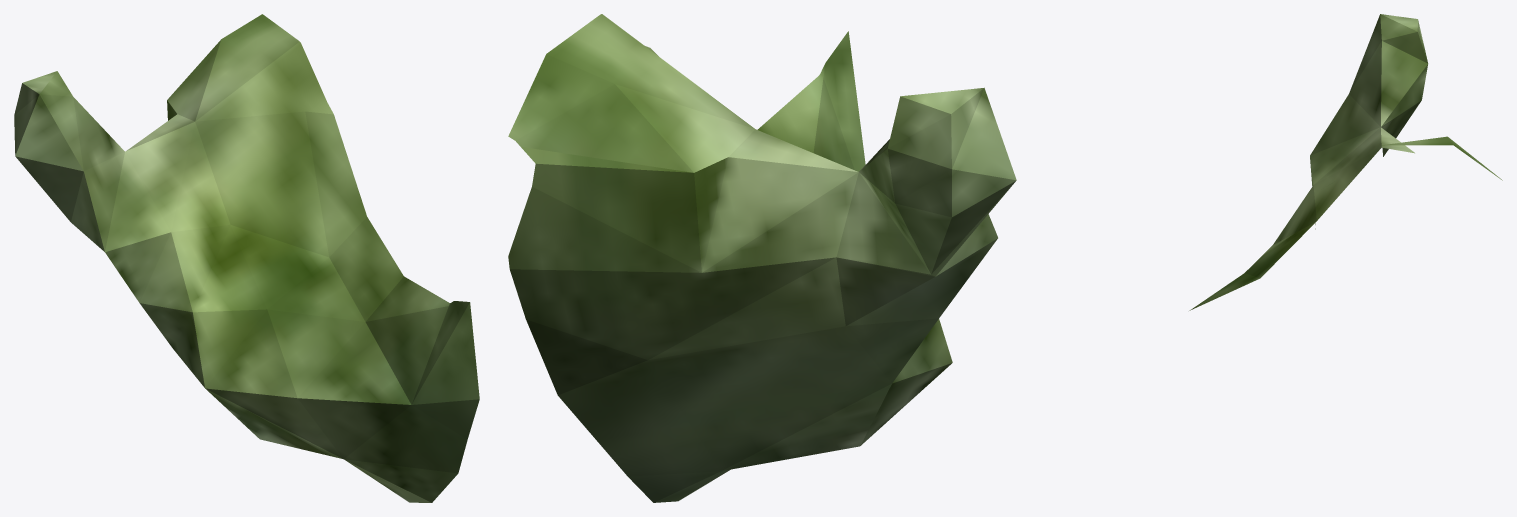
3 views of the same model, side by side, from view 1: azimuth 30°, elevation 25°; view 2: azimuth 150°, elevation 25°; view 3: azimuth 270°, elevation 25° (orthographic). The views are drawn at different scales.
Size of the model in its own units: 0.3622 by 0.4771 by 0.5355.
1 material, 1 textured.
